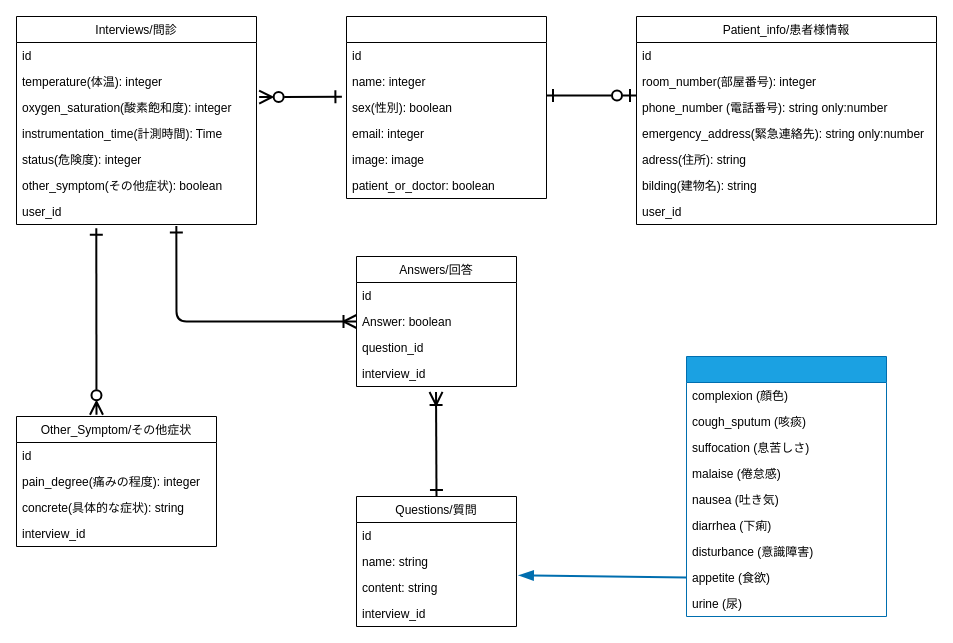
Some shapes in this 953 by 643 pixel diagram are drawn without their labels. Each missing label, with the box of its shape:
seed_content to Questions: (686, 356, 886, 616)
Users/ユーザー: (346, 16, 546, 198)
